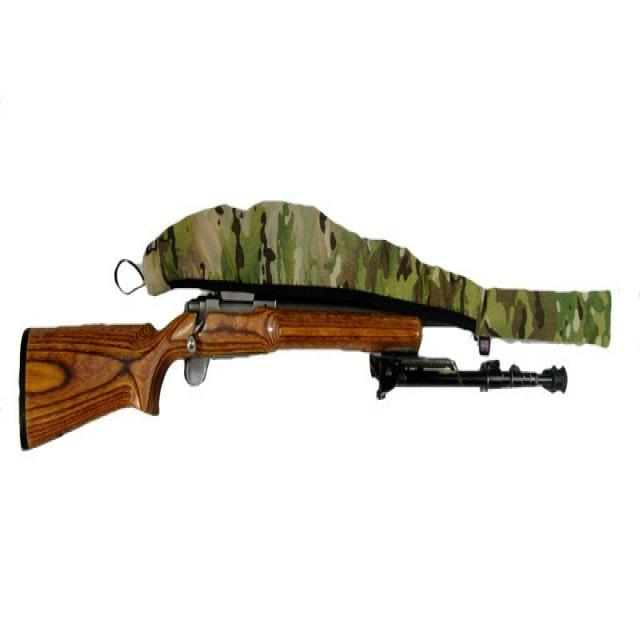weapon: (18, 290, 580, 464)
